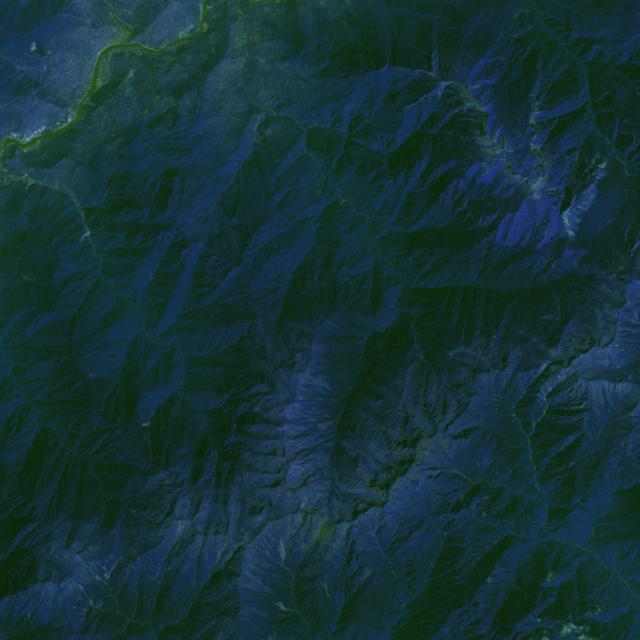landslides: (294, 517, 333, 570), (254, 536, 294, 578), (240, 569, 276, 597), (208, 537, 233, 572), (60, 577, 88, 606), (596, 308, 615, 347), (61, 265, 96, 285), (285, 510, 306, 542), (28, 584, 47, 619), (46, 570, 59, 621), (298, 372, 332, 391), (600, 283, 625, 307), (483, 450, 503, 479), (244, 548, 272, 568), (598, 295, 618, 323), (522, 34, 542, 61), (72, 571, 107, 586), (367, 505, 385, 534), (587, 379, 605, 407), (241, 604, 277, 618), (354, 567, 374, 592), (300, 515, 312, 551), (427, 515, 444, 539), (242, 558, 267, 574), (76, 582, 93, 605), (450, 469, 474, 485), (419, 540, 438, 559), (68, 574, 82, 599), (337, 522, 351, 547), (259, 532, 274, 555), (263, 527, 278, 547), (326, 319, 346, 334), (386, 525, 399, 548), (604, 380, 615, 407), (619, 310, 640, 324), (106, 562, 119, 583), (326, 552, 341, 570), (569, 413, 587, 427), (88, 559, 101, 577), (275, 601, 296, 612), (318, 419, 339, 430), (181, 568, 196, 583), (147, 431, 153, 468), (359, 513, 373, 528), (513, 8, 532, 19), (512, 29, 531, 40), (417, 554, 430, 570), (148, 557, 164, 570), (23, 161, 34, 179), (56, 591, 65, 613), (278, 538, 285, 564), (553, 294, 560, 320), (120, 621, 131, 637), (577, 411, 590, 424), (323, 574, 330, 598), (62, 592, 78, 602), (354, 520, 366, 533), (583, 443, 594, 457), (628, 302, 637, 318), (610, 580, 620, 594), (90, 608, 99, 623), (298, 385, 310, 396), (623, 383, 633, 396), (25, 180, 35, 193), (144, 595, 152, 611), (616, 383, 623, 400), (617, 332, 640, 337), (396, 132, 410, 140), (150, 576, 161, 586), (95, 561, 106, 571), (316, 386, 327, 396), (322, 323, 333, 333), (241, 607, 253, 616), (280, 611, 295, 618), (165, 605, 170, 626), (73, 606, 88, 613), (56, 621, 69, 629), (626, 226, 632, 243), (185, 18, 195, 28), (332, 549, 342, 559), (536, 399, 546, 409), (484, 57, 504, 62)
